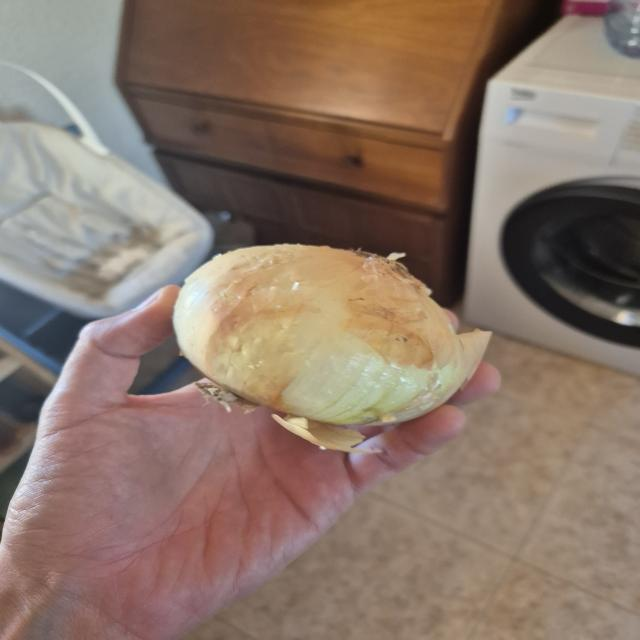cebolla: (173, 244, 468, 427)
